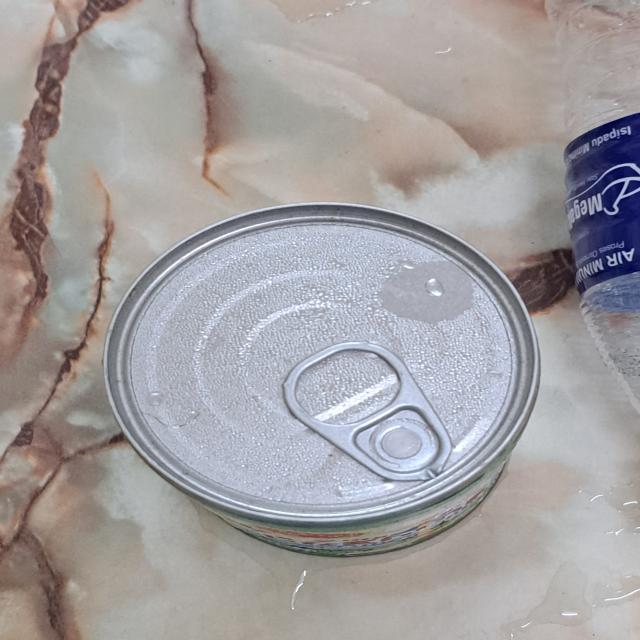can: (104, 201, 538, 558)
plastic bottle: (545, 0, 640, 434)
pop tab: (283, 341, 455, 482)
